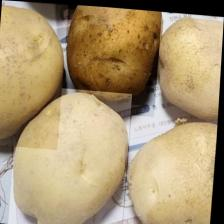Damaged potato: (62, 4, 164, 104)
Potato: (10, 83, 133, 224), (125, 112, 219, 224), (0, 0, 68, 149), (155, 10, 224, 121)
